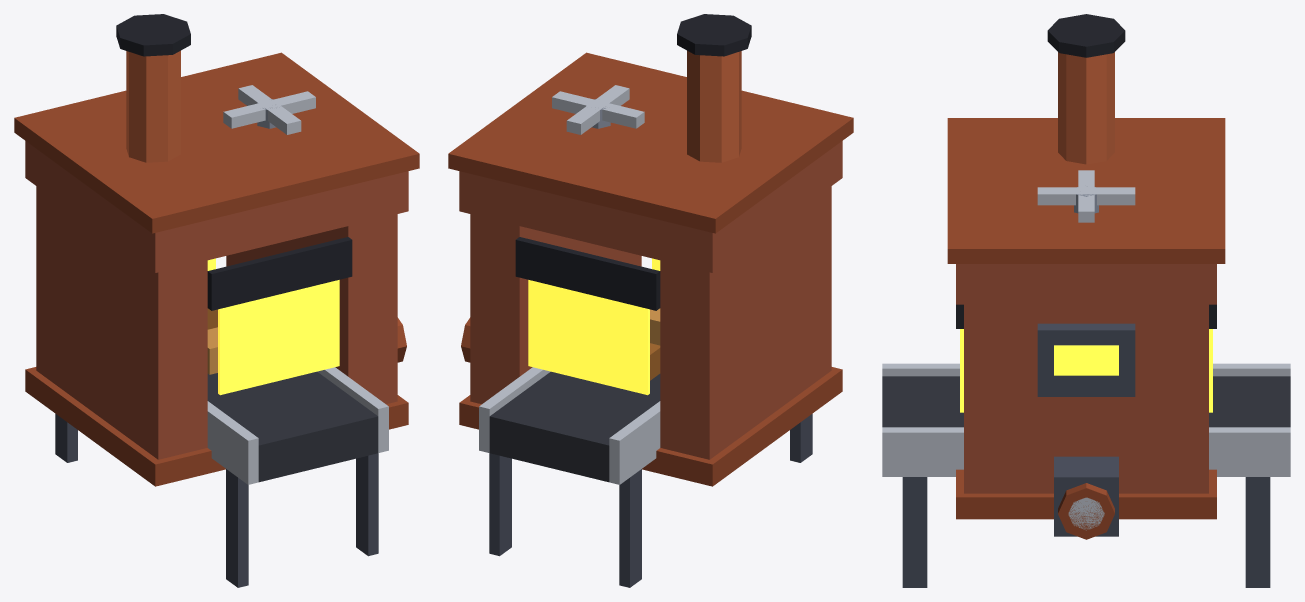
File: oven-right.glb
3 renders of one model, left to right at view 1: azimuth 30°, elevation 25°; view 2: azimuth 150°, elevation 25°; view 3: azimuth 270°, elevation 25°, orthographic.
Parts seen in each view (by area): view 1: oven-right, spin-up; view 2: oven-right, spin-up; view 3: oven-right, spin-up.
Boxes of the visible parts, x1,y1,x2,y2 form: oven-right: (14,14,419,587); spin-up: (223,85,315,134); oven-right: (448,14,853,587); spin-up: (552,85,644,134); oven-right: (882,14,1290,587); spin-up: (1037,170,1135,222).
Size of the model in its own units: 0.88 by 1.33 by 1.
Materials: 2 (2 with a texture image).
